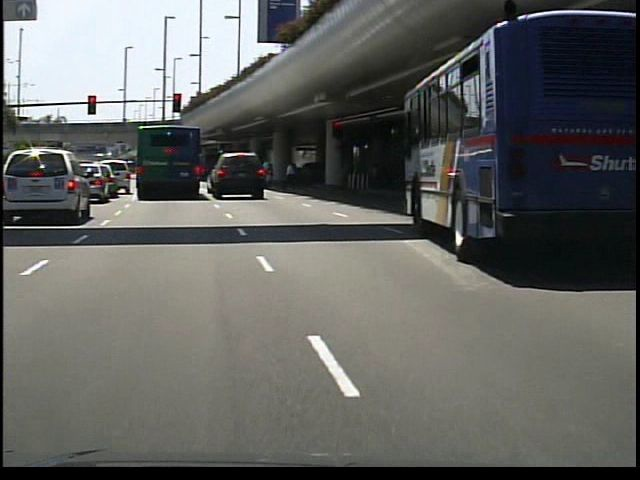person: (282, 157, 302, 194)
